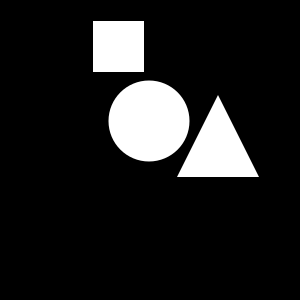circle: (93, 21, 144, 72)
rectangle: (108, 80, 189, 162)
triangle: (177, 95, 259, 177)
